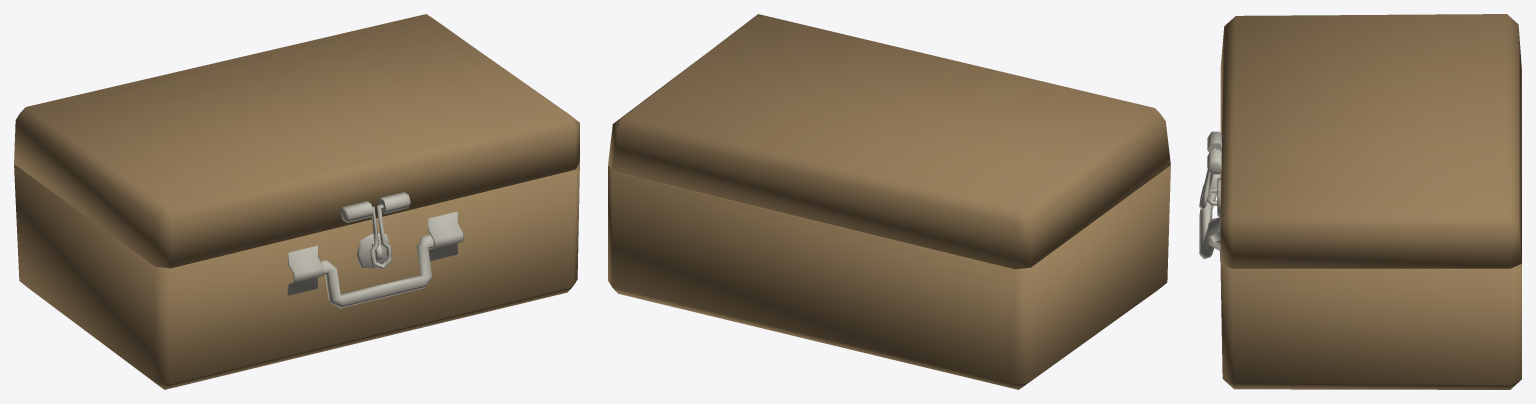
3 renders of one model, left to right at view 1: azimuth 30°, elevation 25°; view 2: azimuth 150°, elevation 25°; view 3: azimuth 270°, elevation 25°, orthographic.
Visible parts, largest first — view 1: box.05; view 2: box.05; view 3: box.05.
Boxes of the visible parts, bbox=[...] form: box.05: bbox=[14, 14, 579, 389]; box.05: bbox=[608, 14, 1170, 389]; box.05: bbox=[1199, 14, 1521, 389].
Bounding box in the file's own units: 1.11 × 0.4571 × 0.7396.
Materials: 1 (1 with a texture image).
